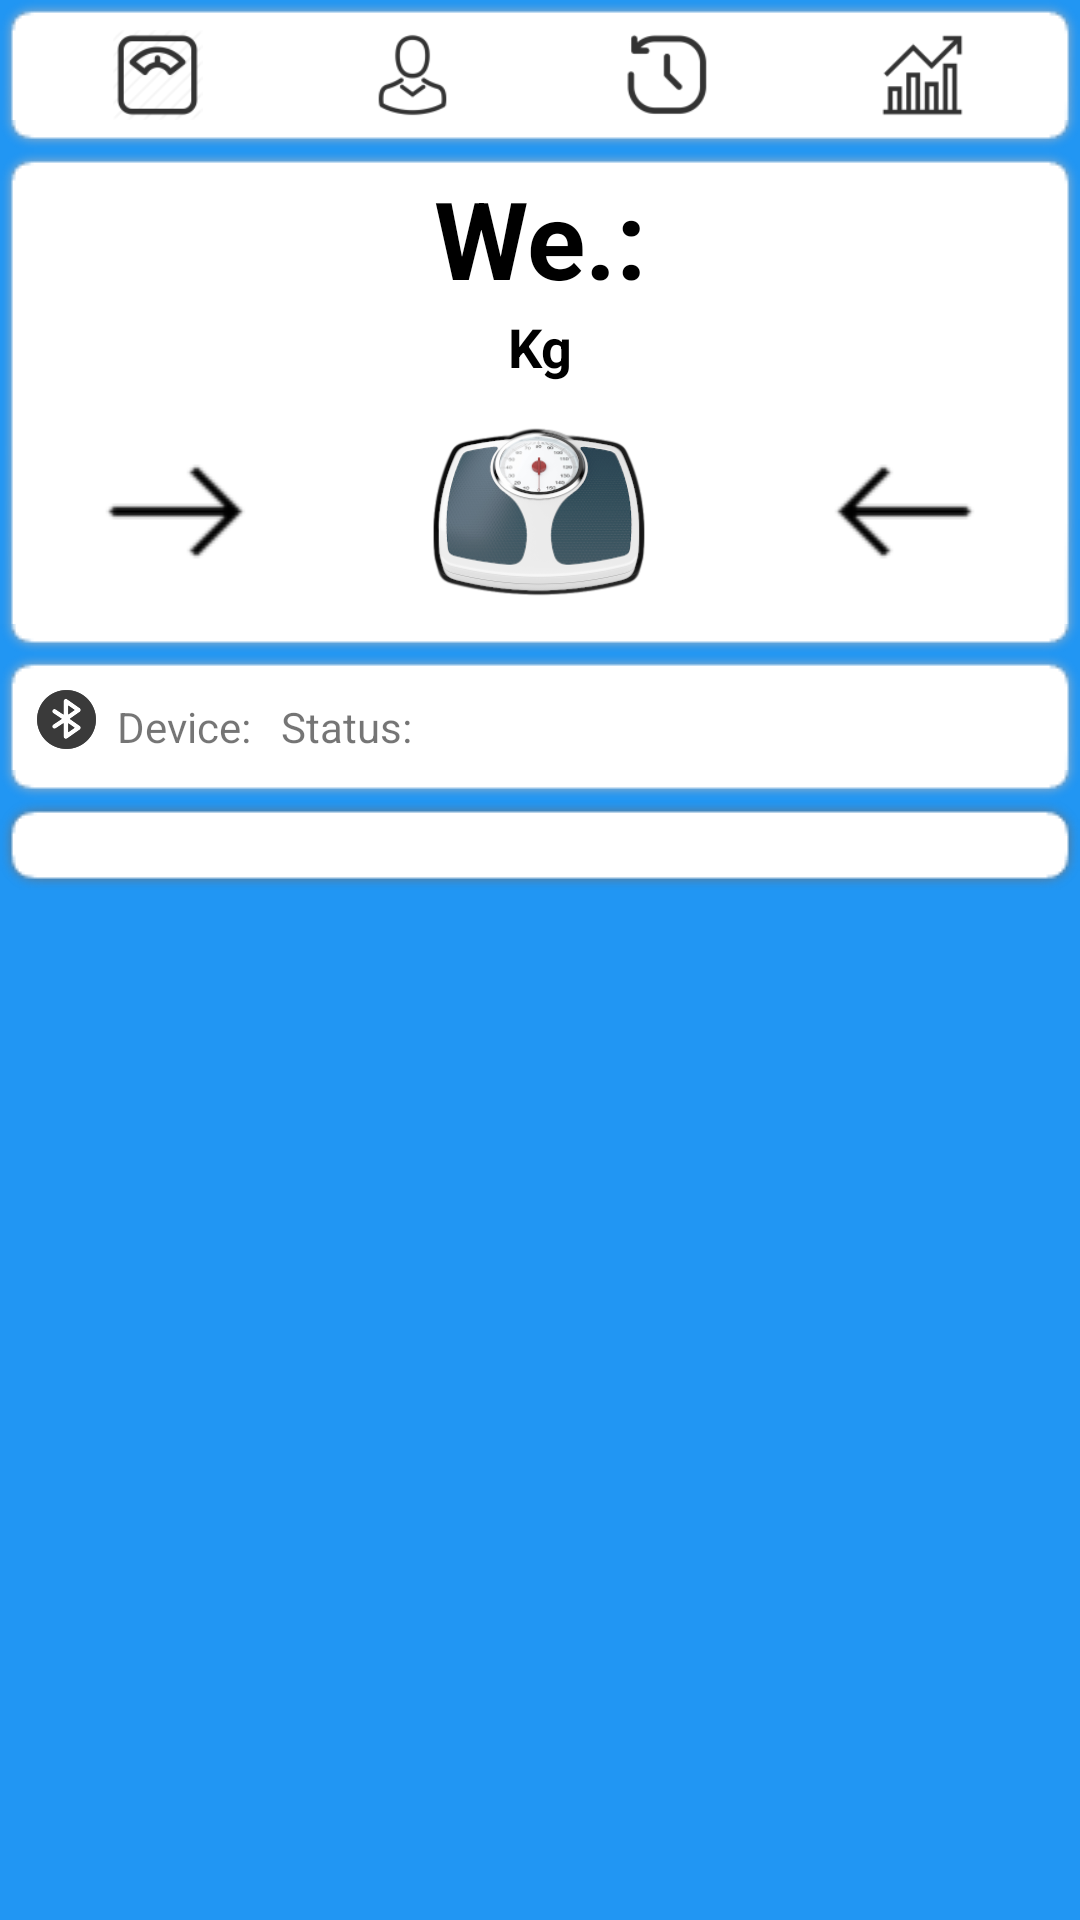

Icon bounding boxes for this 1080*1920 phone screenshot, format (x1=x1, y1=y1, x2=x2, y2=y2):
arrow: (x1=108, y1=466, x2=243, y2=557), (x1=837, y1=466, x2=972, y2=557)
history: (x1=627, y1=35, x2=707, y2=114)
scale: (x1=117, y1=35, x2=198, y2=115), (x1=433, y1=428, x2=645, y2=595)
trend: (x1=882, y1=35, x2=963, y2=115)
user: (x1=378, y1=35, x2=447, y2=115)
